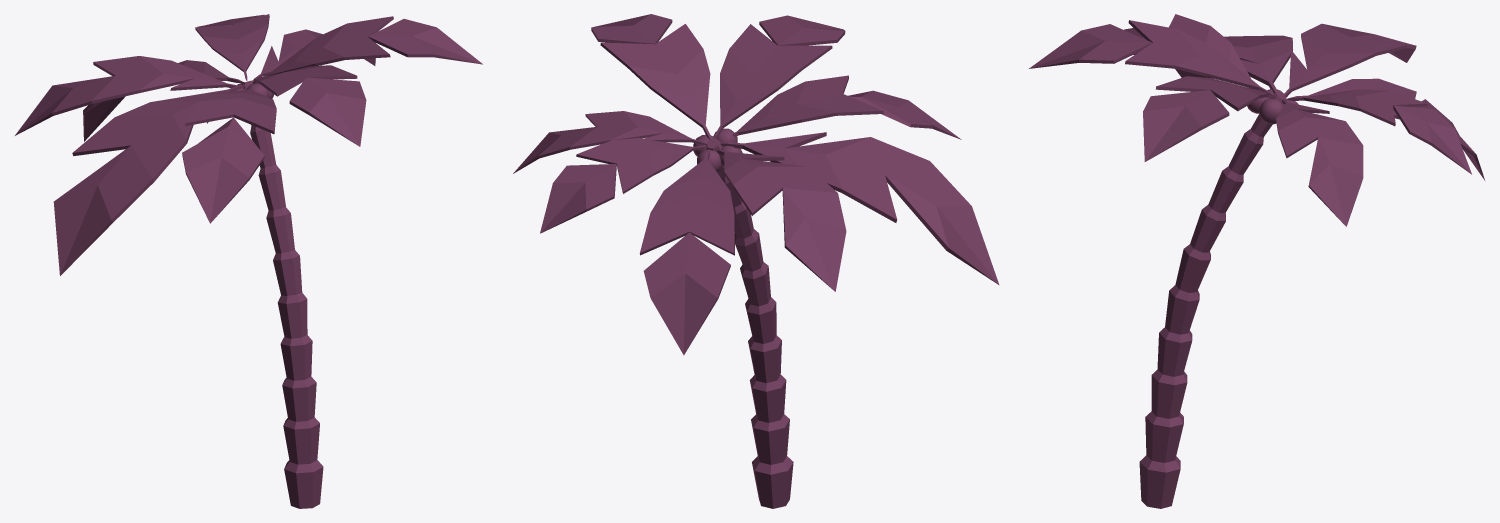
The model's file is Tree.fbx.
The picture shows the model from 3 angles, left to right: view 1: azimuth 30°, elevation 25°; view 2: azimuth 150°, elevation 25°; view 3: azimuth 270°, elevation 25°; orthographic projection. The views are drawn at different scales.
Parts seen in each view (by area): view 1: pCube4; view 2: pCube4; view 3: pCube4.
Boxes of the visible parts, bbox=[...] form: pCube4: bbox=[15, 14, 482, 508]; pCube4: bbox=[513, 14, 999, 508]; pCube4: bbox=[1029, 14, 1484, 508].
Size of the model in its own units: 22.84 by 23.44 by 21.04.
